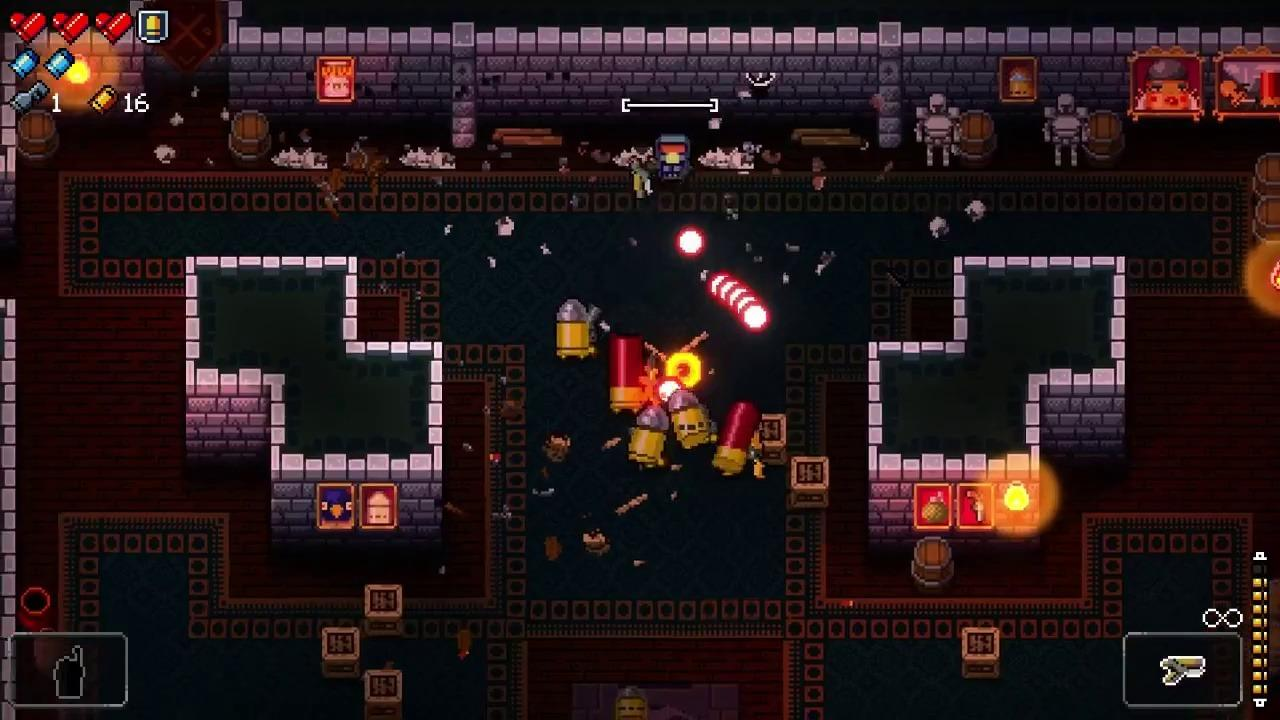blocked_door: (144, 0, 231, 95)
bullet: (708, 269, 738, 303), (738, 303, 771, 332), (735, 295, 767, 323), (676, 227, 706, 256), (727, 287, 757, 315), (720, 277, 748, 306), (656, 378, 685, 406)
bullet_kin: (669, 389, 717, 450), (628, 405, 669, 468), (557, 298, 590, 358)
dead_bullet_kin: (616, 685, 648, 720)
player: (653, 133, 692, 185)
red_shotgun_kin: (712, 402, 760, 475), (609, 334, 644, 414)
